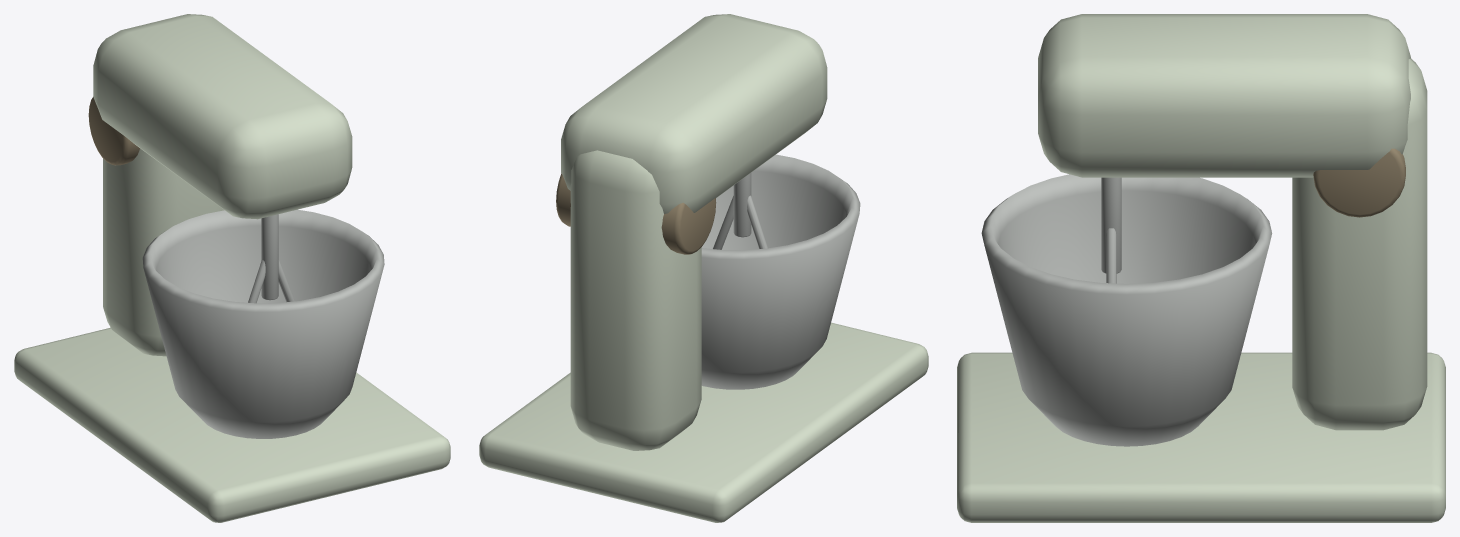
The model's file is stand-mixer.glb.
The picture shows the model from 3 angles, left to right: view 1: azimuth 30°, elevation 25°; view 2: azimuth 150°, elevation 25°; view 3: azimuth 270°, elevation 25°; orthographic projection. The views are drawn at different scales.
Parts seen in each view (by area): view 1: stand-mixer; view 2: stand-mixer; view 3: stand-mixer.
Part boxes in pixels (left/top/right/bottom): stand-mixer: left=14, top=14, right=450, bottom=522; stand-mixer: left=479, top=14, right=928, bottom=522; stand-mixer: left=957, top=14, right=1445, bottom=522.
Bounding box in the file's own units: 0.26 × 0.36 × 0.38.
